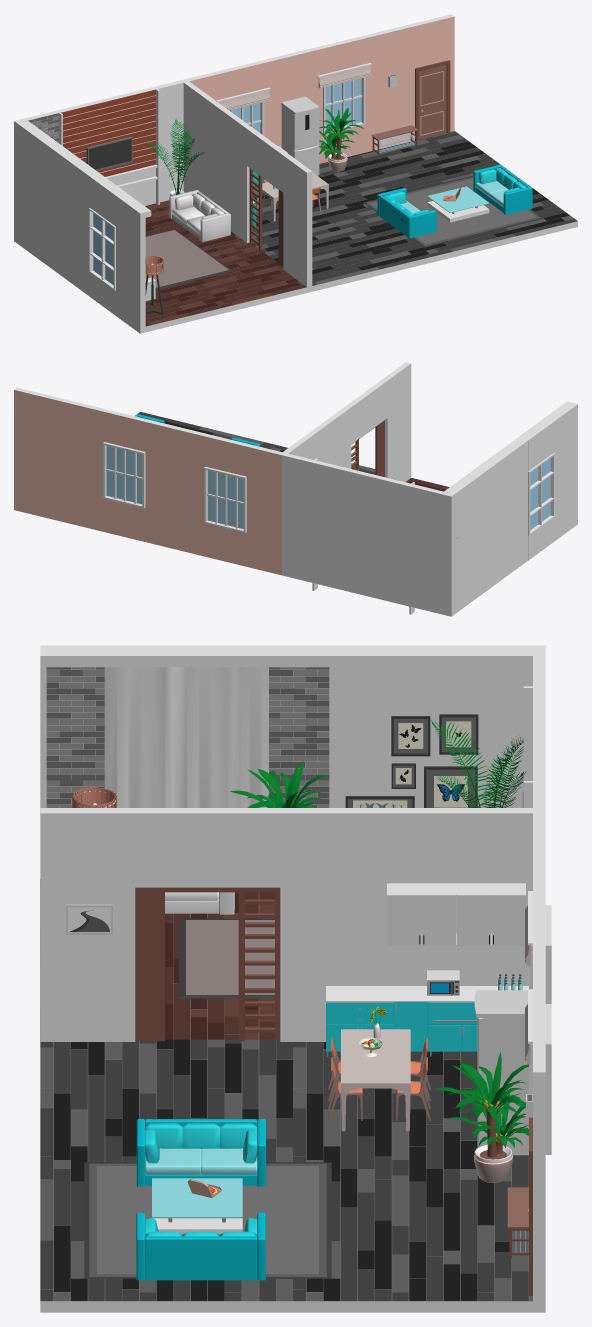
File: room_19.glb
The picture shows the model from 3 angles, top to bottom: view 1: azimuth 30°, elevation 25°; view 2: azimuth 150°, elevation 25°; view 3: azimuth 270°, elevation 25°; orthographic projection. The views are drawn at different scales.
Visible parts, largest first — view 1: Walls_006.055, Walls_177.005, Walls_006.056, floor_007.001, floor_007.004, Walls_006.062, wall_008.002, Walls_046.002, floor_016.003, Walls_006.065, Walls_177.009, Walls_006.054 (+35 smaller); view 2: Walls_006.062, Walls_177.005, Walls_006.055, Walls_177.009, Walls_177.010, Walls_006.065, Walls_006.054, window_022.001, window_022.002, Walls_006.056, window_023.002, Walls_006.057 (+9 smaller); view 3: Walls_006.056, floor_007.001, floor_007.004, Walls_006.055, Curtains_027.010, Walls_006.054, floor_007.003, carpet_004.005, Walls_046.002, Walls_006.057, floor_007.002, Walls_003.055 (+35 smaller).
Part boxes in pixels (x1,y1,x2,y2): Walls_006.055: (14, 119, 95, 296); Walls_177.005: (361, 14, 454, 152); Walls_006.056: (183, 81, 251, 242); floor_007.001: (319, 131, 514, 200); floor_007.004: (252, 209, 441, 285); Walls_006.062: (20, 79, 185, 205); wall_008.002: (61, 89, 155, 176); Walls_046.002: (145, 131, 577, 332); floor_016.003: (193, 241, 306, 306); Walls_006.065: (115, 194, 145, 333); Walls_177.009: (260, 46, 323, 163); Walls_006.054: (283, 154, 312, 287); Walls_006.062: (282, 453, 448, 615); Walls_177.005: (14, 387, 106, 531); Walls_006.055: (446, 439, 527, 616); Walls_177.009: (145, 419, 208, 556); Walls_177.010: (246, 444, 284, 575); Walls_006.065: (548, 403, 577, 541); Walls_006.054: (382, 362, 411, 481); window_022.001: (102, 442, 145, 508); window_022.002: (204, 466, 246, 532); Walls_006.056: (283, 406, 351, 468); window_023.002: (528, 453, 554, 535); Walls_006.057: (346, 379, 387, 444); Walls_006.056: (280, 808, 532, 1042); floor_007.001: (293, 1169, 532, 1300); floor_007.004: (40, 1039, 292, 1168); Walls_006.055: (239, 645, 545, 807); Curtains_027.010: (104, 667, 268, 807); Walls_006.054: (40, 808, 135, 1042); floor_007.003: (293, 1042, 528, 1168); carpet_004.005: (84, 1162, 331, 1278); Walls_046.002: (40, 892, 532, 1312); Walls_006.057: (135, 808, 280, 887); floor_007.002: (40, 1169, 292, 1300); Walls_003.055: (40, 650, 532, 667).
Size of the model in its own units: 16.05 by 4.52 by 8.1.
1 material, 1 textured.
